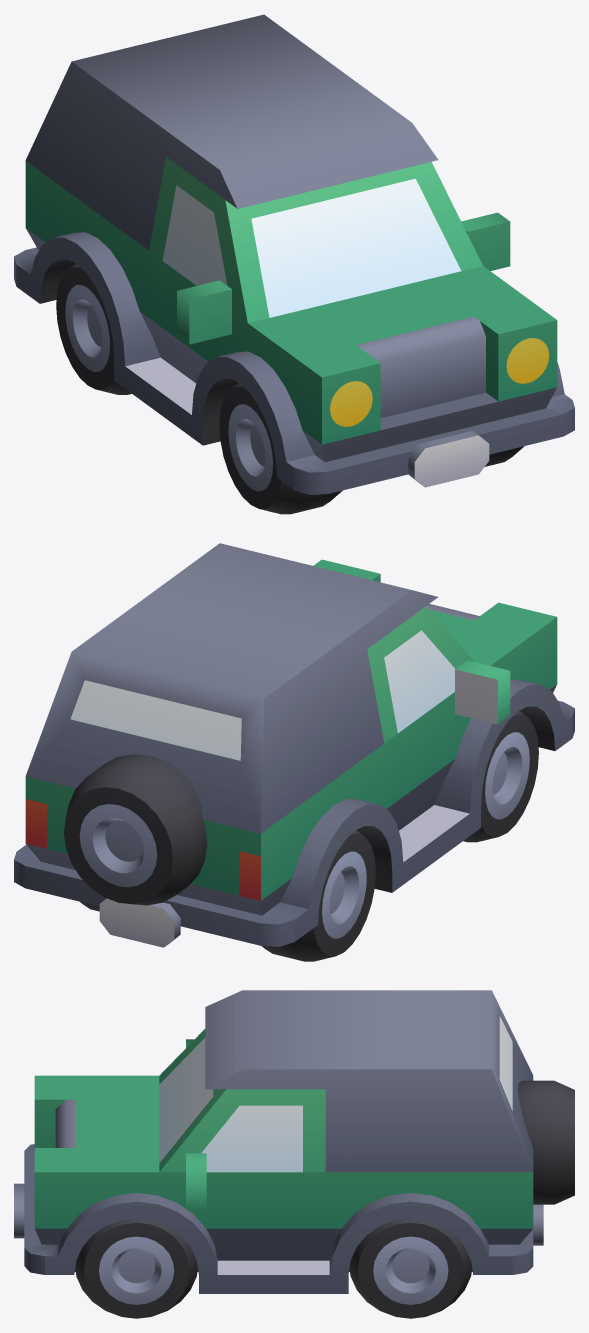
3 views of the same model, one above another, from view 1: azimuth 30°, elevation 25°; view 2: azimuth 150°, elevation 25°; view 3: azimuth 270°, elevation 25° (orthographic). The views are drawn at different scales.
Parts seen in each view (by area): view 1: body, wheel-front-right, wheel-back-right; view 2: body, wheel-back, wheel-back-right, wheel-front-right; view 3: body, wheel-front-left, wheel-back-left, wheel-back.
Boxes of the visible parts, x1,y1,x2,y2 form: body: (14, 14, 574, 494); wheel-front-right: (219, 382, 342, 514); wheel-back-right: (56, 263, 131, 394); body: (14, 543, 574, 947); wheel-back: (64, 754, 207, 905); wheel-back-right: (262, 830, 375, 961); wheel-front-right: (463, 710, 538, 842); body: (14, 990, 543, 1293); wheel-front-left: (75, 1218, 197, 1318); wheel-back-left: (349, 1218, 472, 1318); wheel-back: (517, 1080, 574, 1204).
Size of the model in its own units: 1.5 by 1.3 by 2.7.
Materials: 1 (1 with a texture image).
